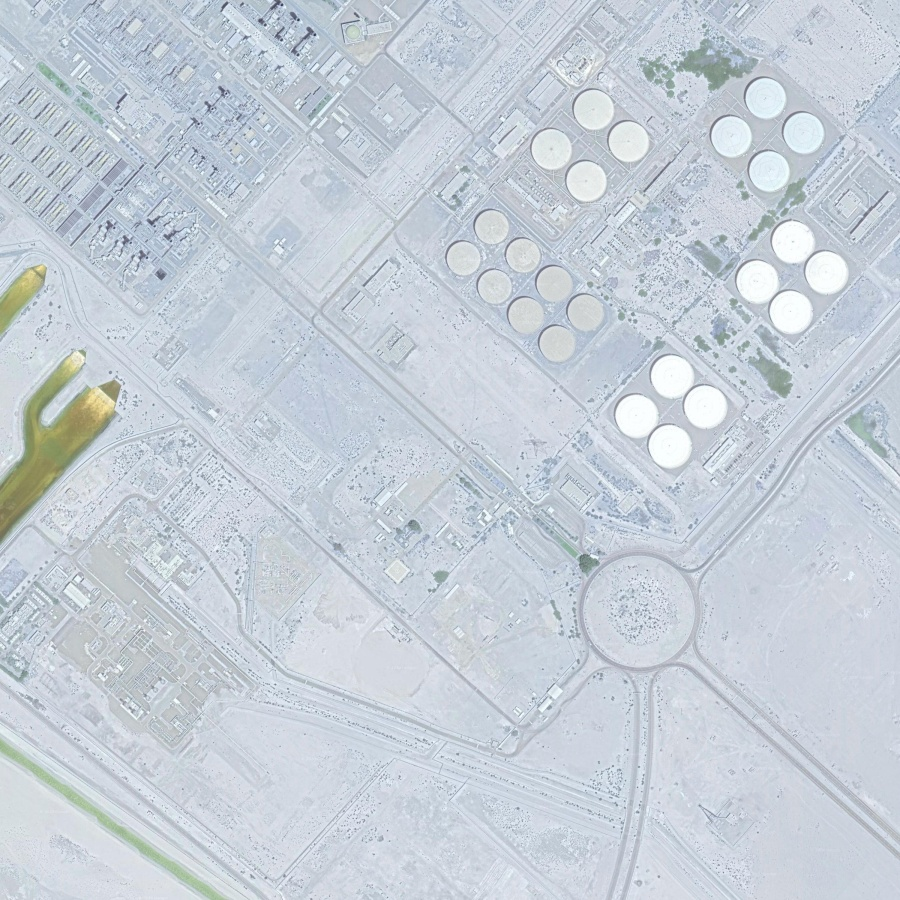PowerPlant: (436, 28, 886, 488)
